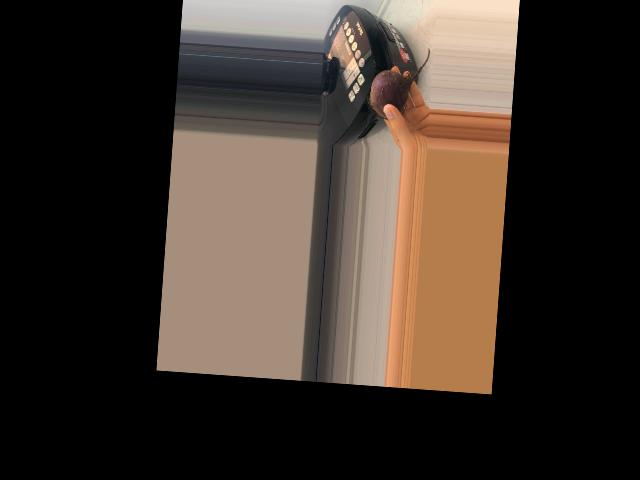beet: (366, 44, 430, 121)
